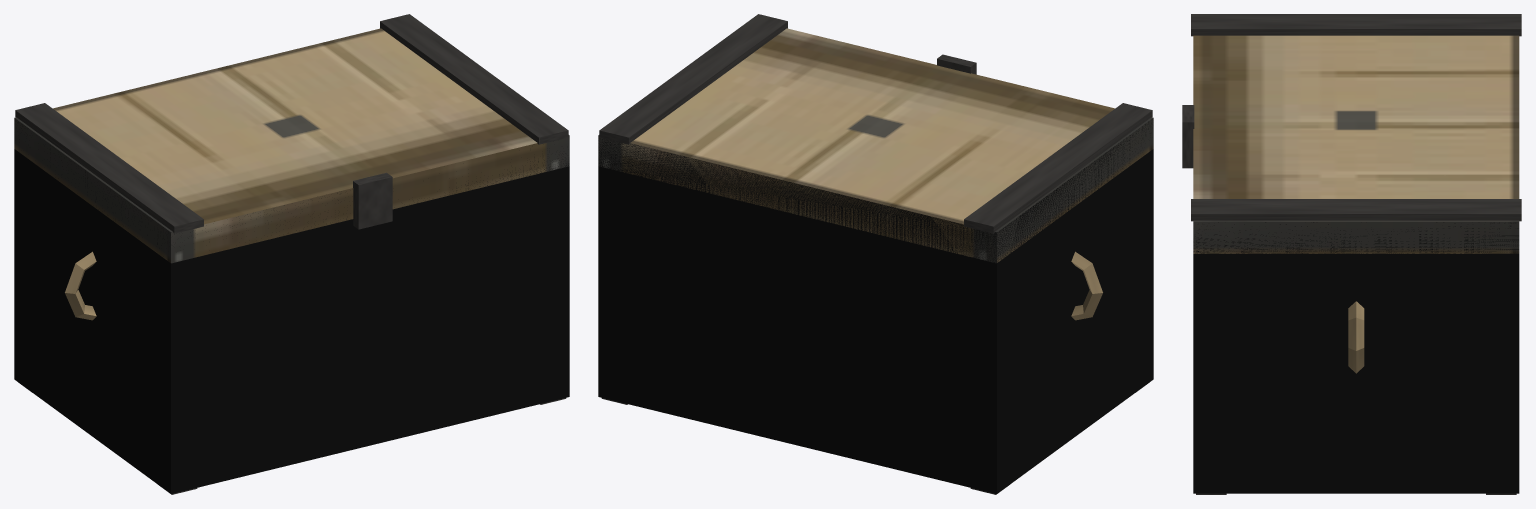
The model's file is crate.fbx.
The picture shows the model from 3 angles, left to right: view 1: azimuth 30°, elevation 25°; view 2: azimuth 150°, elevation 25°; view 3: azimuth 270°, elevation 25°; orthographic projection. The views are drawn at different scales.
Visible parts, largest first — view 1: col_body, lid, crate; view 2: col_body, lid, crate; view 3: col_body, lid, crate.
Part boxes in pixels (box(x1,y1,x2,y2)): col_body: box(14, 122, 569, 493); lid: box(14, 14, 569, 263); crate: box(21, 251, 566, 494); col_body: box(598, 119, 1153, 493); lid: box(598, 14, 1153, 263); crate: box(601, 251, 1146, 494); col_body: box(1193, 222, 1519, 493); lid: box(1182, 14, 1521, 253); crate: box(1196, 301, 1516, 494).
Bounding box in the file's own units: 1.07 × 0.61 × 0.667.
Materials: 1 (1 with a texture image).
